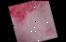plaque psoriasis: (7, 0, 53, 27), (15, 30, 35, 42), (43, 27, 57, 39)
